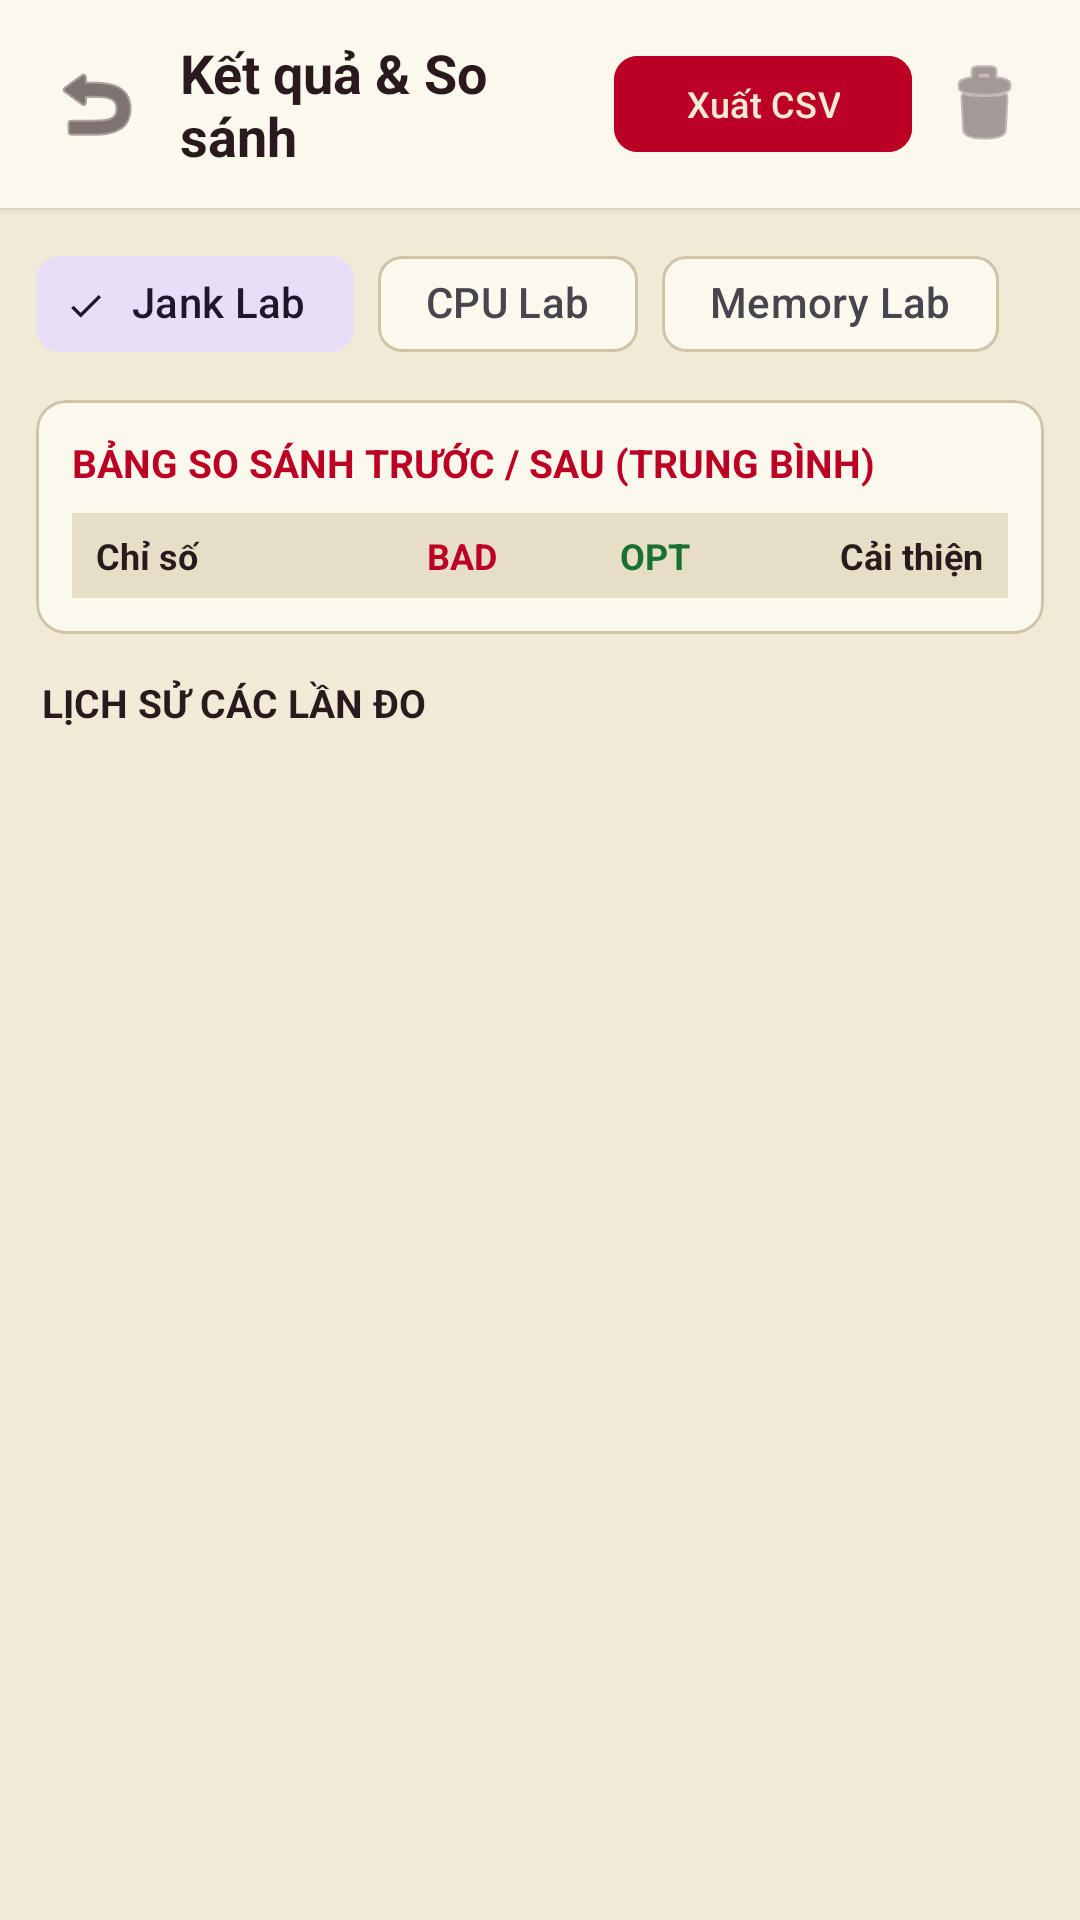

Icon click points for this 1080 × 1920 phone screenshot, format (x=x, y=y):
Quay lại: (x=97, y=104)
Xóa toàn bộ lịch sử: (x=984, y=102)
